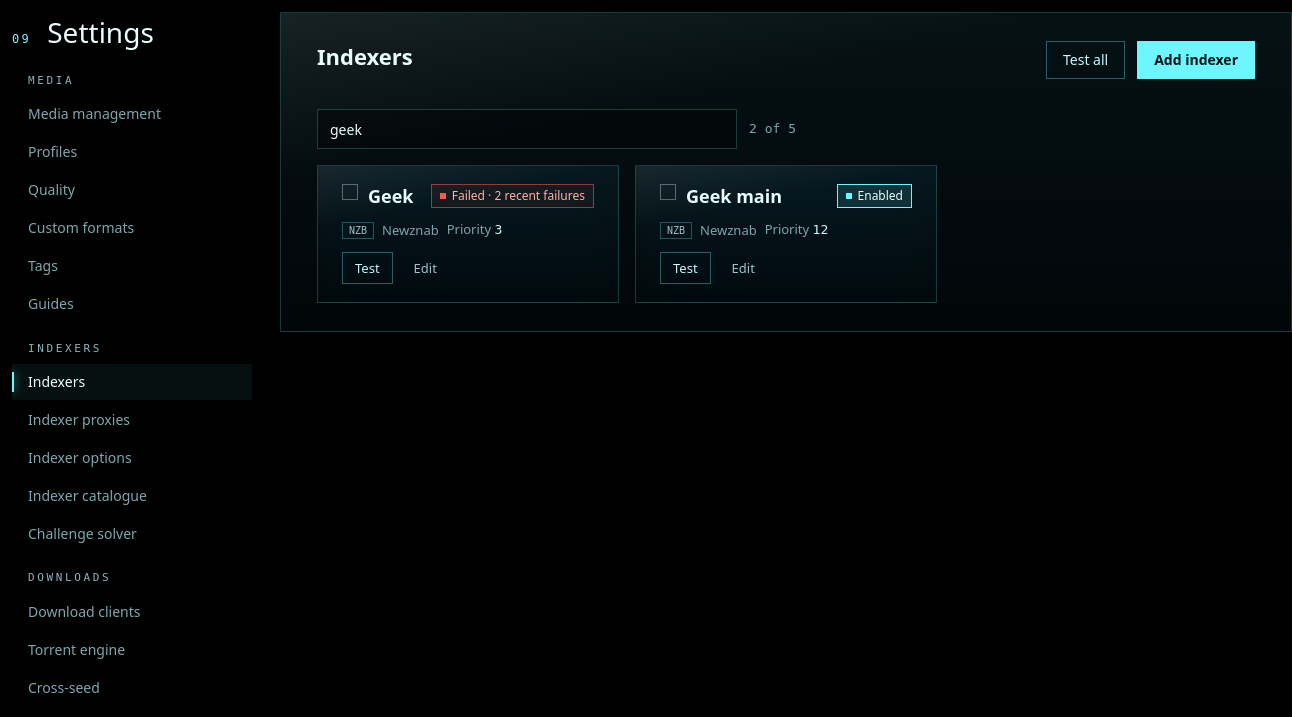
indexer cards › selects only the matching indexers and clears an empty search
Click the checkbox named "Select Geek" at (350, 192), box left=342, top=184, right=358, bottom=200
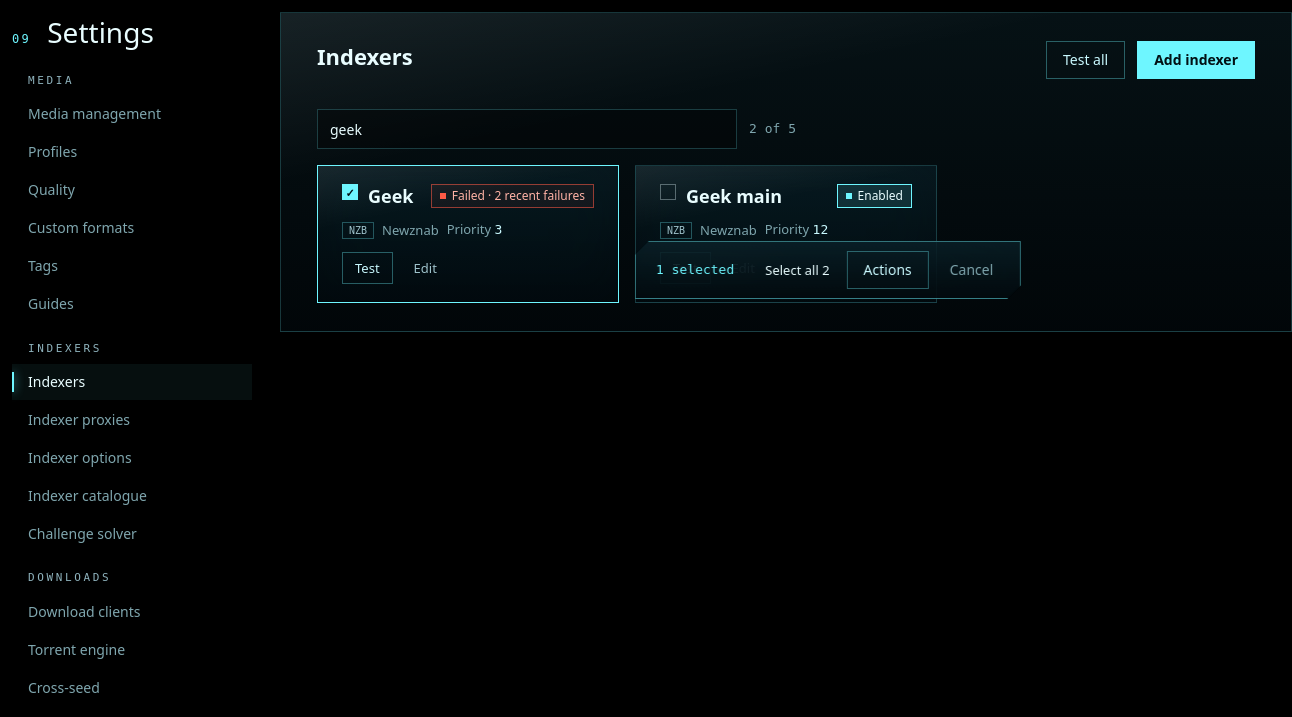
Click the button "Select all 2" at (797, 270), box left=752, top=254, right=842, bottom=286
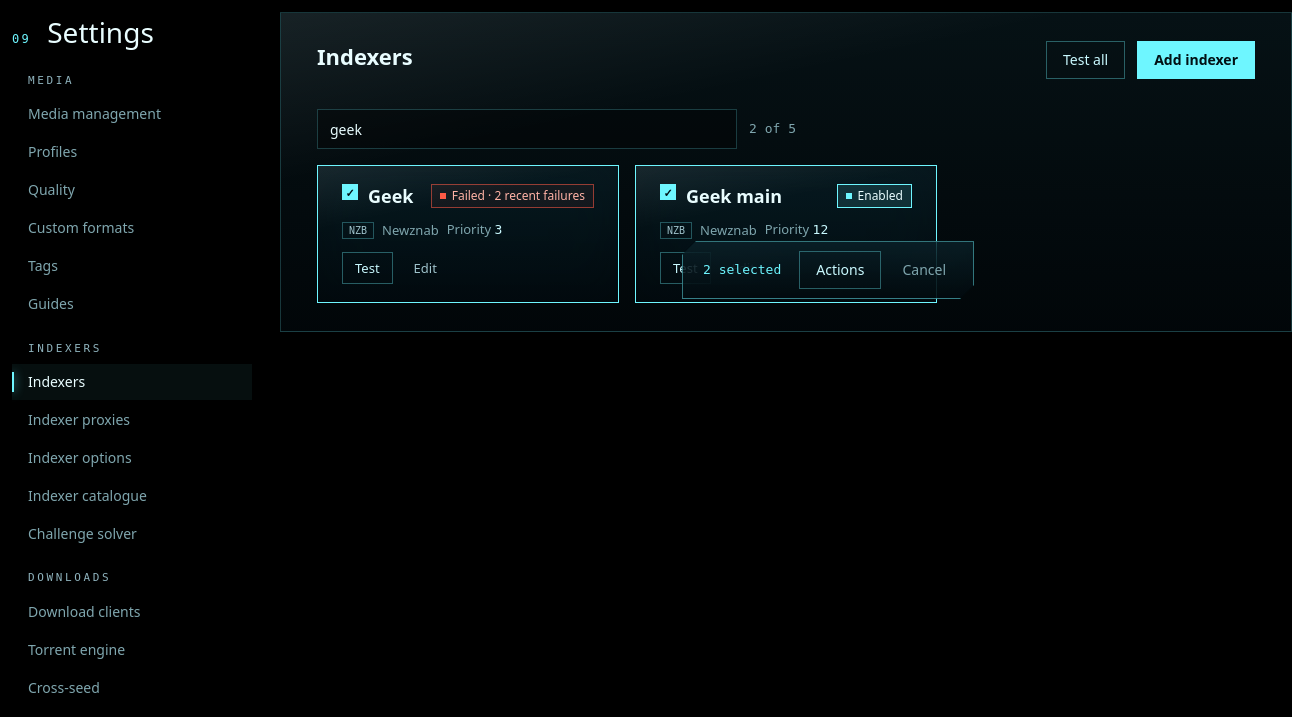
Check: the text "2 selected" is shown, box left=703, top=261, right=781, bottom=279
Replace the text in the search field named "Search this list" with "zzz" at (527, 129), box left=317, top=109, right=737, bottom=149
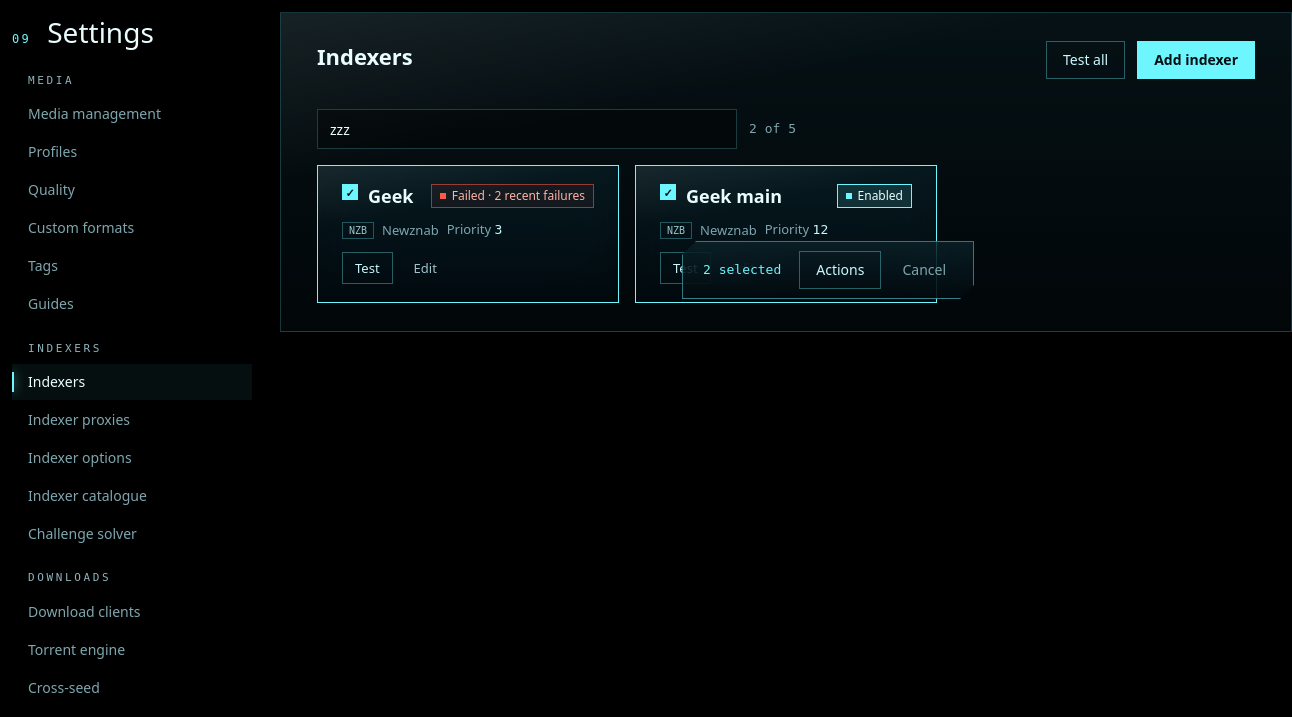
Press Enter in the search field named "Search this list", box left=317, top=109, right=737, bottom=149
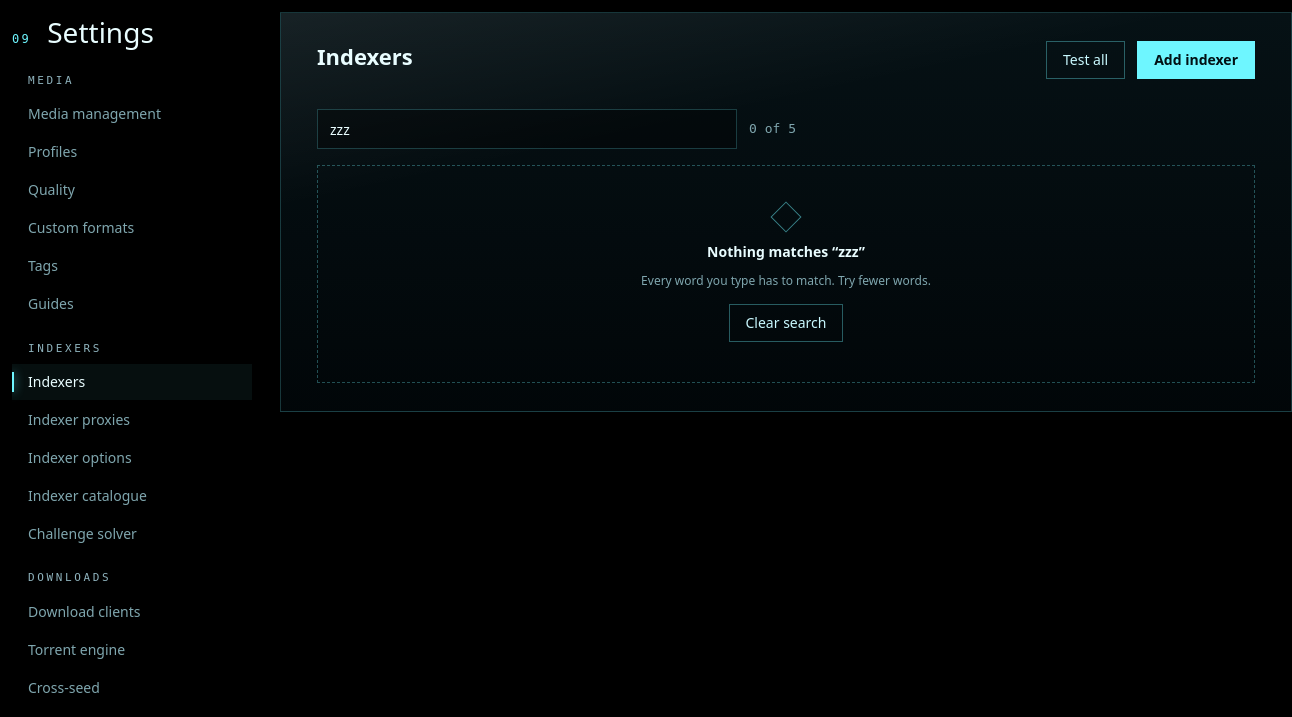
Click the button "Clear search" at (786, 323), box left=728, top=304, right=844, bottom=342
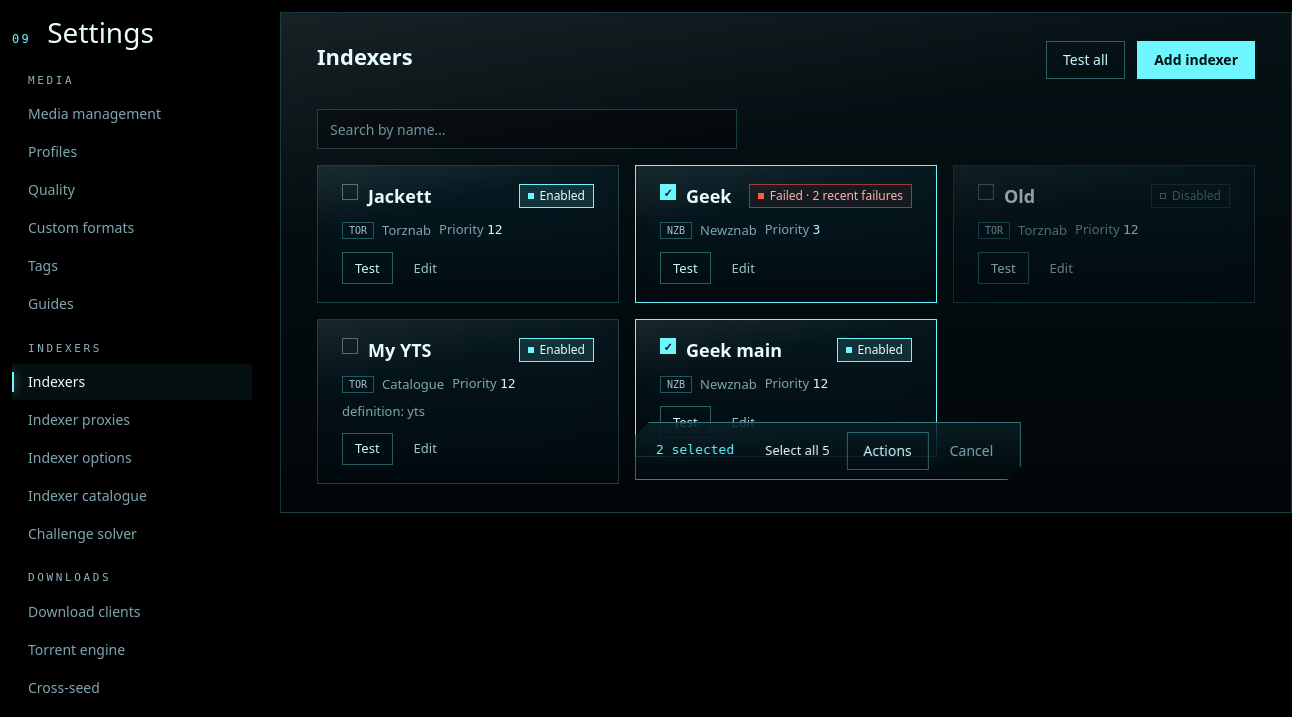
Check: the list named "Indexers" is shown, box left=317, top=165, right=1255, bottom=484
